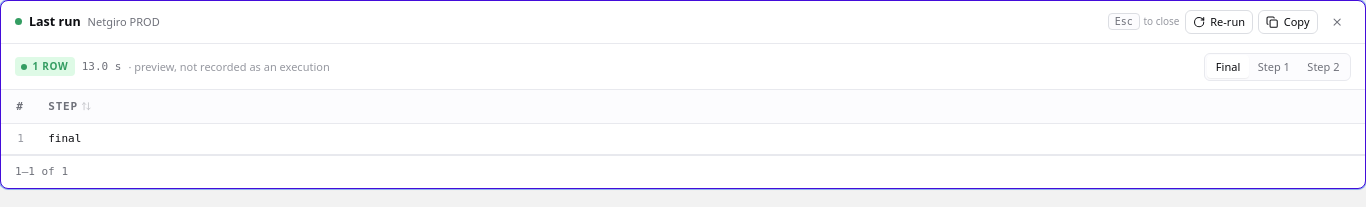
Scenario: QueryRunPanel › shows a multi-step query as the paged final result plus each step’s first rows
The image size is (1366, 207).
Expected: the text "final" is shown, [36,124,1365,154]
Click the radio button labelled "Step 1".
click(1274, 67)  # box [1249,55,1299,78]
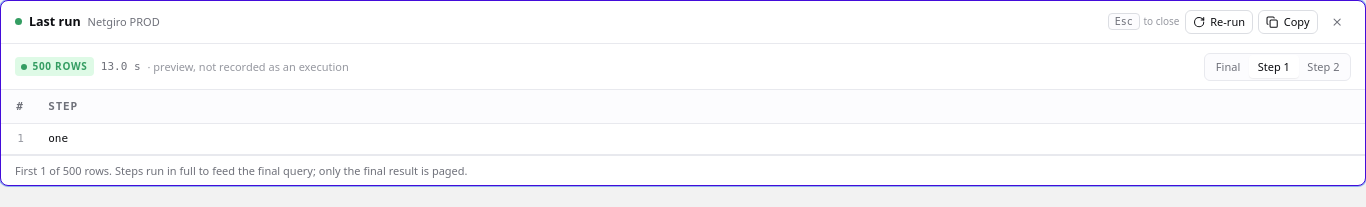
Expected: the text "one" is shown, [36,124,1365,154]
Expected: the text "Steps run in full to feed the final query" is shown, [82,163,468,178]
